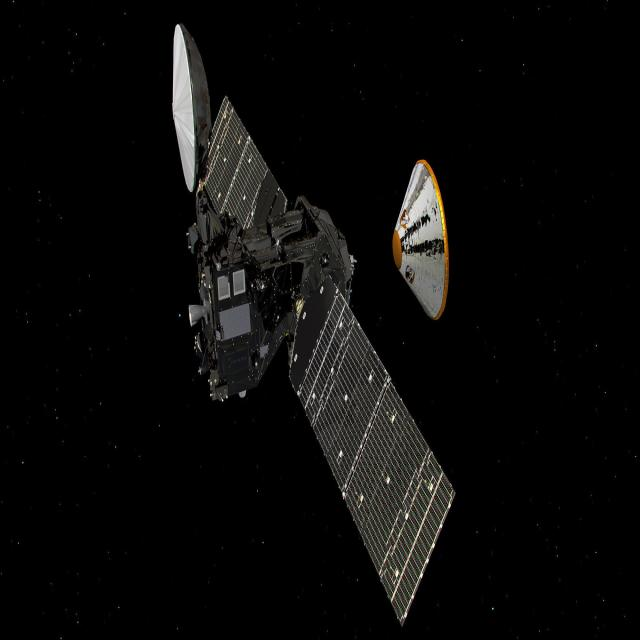satellite: (167, 15, 456, 633)
